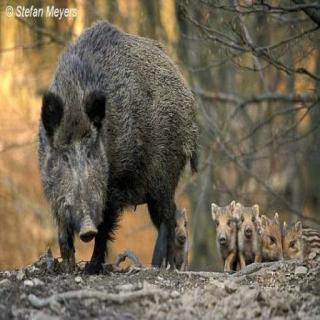Pig: (30, 2, 199, 276), (165, 199, 202, 274), (283, 210, 320, 276), (211, 198, 237, 272), (236, 200, 261, 268), (262, 211, 282, 276)
